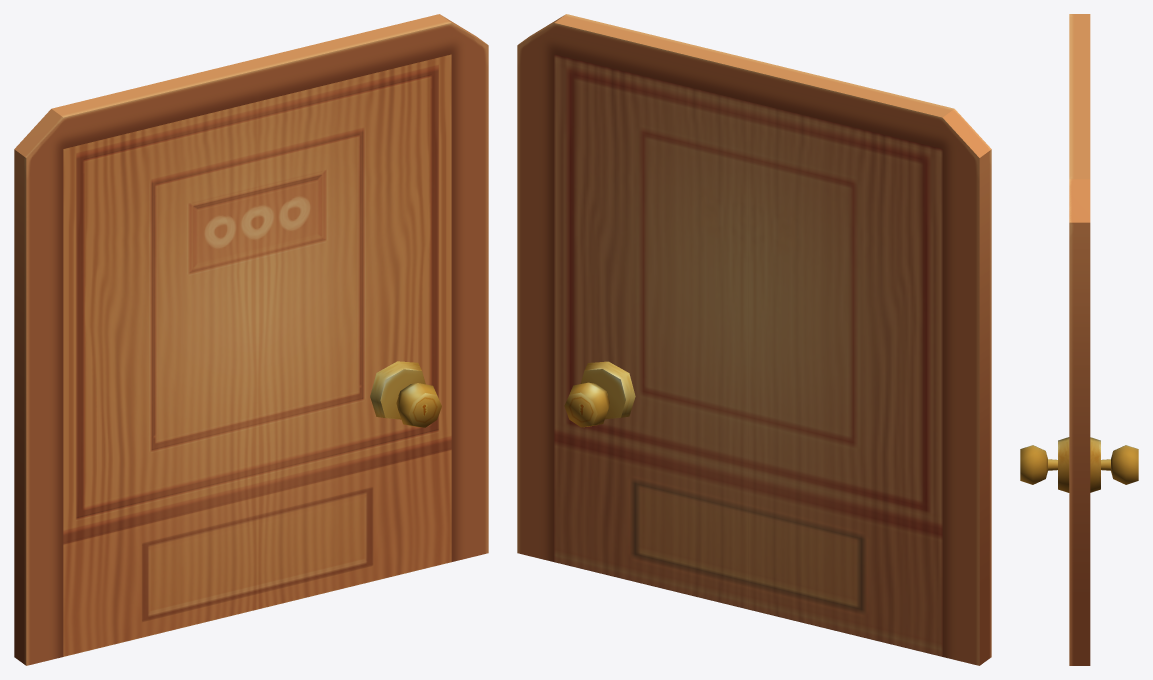
The model's file is corridor_object_door.FBX.
The picture shows the model from 3 angles, left to right: view 1: azimuth 30°, elevation 25°; view 2: azimuth 150°, elevation 25°; view 3: azimuth 270°, elevation 25°; orthographic projection. The views are drawn at different scales.
Visible parts, largest first — view 1: Object118, Object117; view 2: Object118, Object117; view 3: Object117, Object118.
Part boxes in pixels (x1=…): Object118: x1=63, y1=54, x2=451, y2=656; Object117: x1=14, y1=14, x2=488, y2=665; Object118: x1=554, y1=54, x2=942, y2=656; Object117: x1=517, y1=14, x2=991, y2=665; Object117: x1=1069, y1=14, x2=1090, y2=665; Object118: x1=1020, y1=437, x2=1138, y2=492.
Bounding box in the file's own units: 536 × 597 × 136.
1 material, 1 textured.
